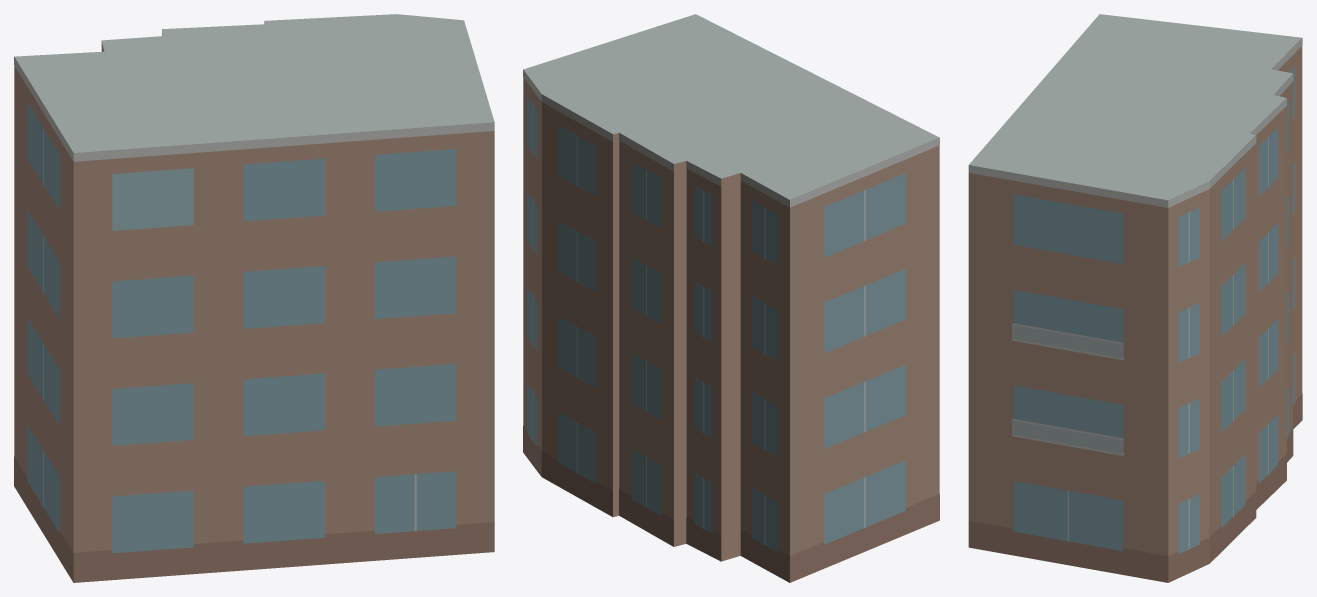
File: survey-upis-32459473.glb
3 views of the same model, side by side, from view 1: azimuth 30°, elevation 25°; view 2: azimuth 150°, elevation 25°; view 3: azimuth 270°, elevation 25° (orthographic). The views are drawn at different scales.
Parts seen in each view (by area): view 1: survey-upis-32459473.tmp; view 2: survey-upis-32459473.tmp; view 3: survey-upis-32459473.tmp.
Boxes of the visible parts, bbox=[...] form: survey-upis-32459473.tmp: bbox=[14, 14, 494, 582]; survey-upis-32459473.tmp: bbox=[523, 14, 939, 582]; survey-upis-32459473.tmp: bbox=[968, 14, 1302, 582].
Size of the model in its own units: 12.64 by 12.09 by 9.57.
